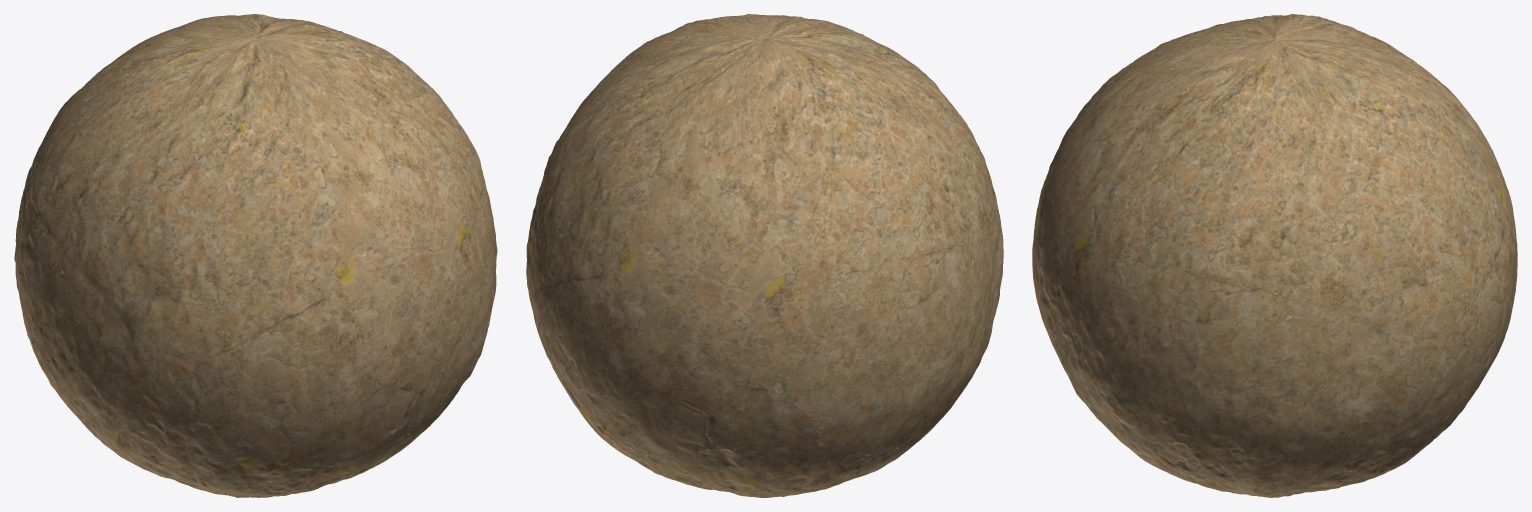
The model's file is worn_rock_natural_01_1k.gltf.
3 renders of one model, left to right at view 1: azimuth 30°, elevation 25°; view 2: azimuth 150°, elevation 25°; view 3: azimuth 270°, elevation 25°, orthographic.
Visible parts, largest first — view 1: sphere_gltf; view 2: sphere_gltf; view 3: sphere_gltf.
Part boxes in pixels (<box>): sphere_gltf: <box>14,14,497,497</box>; sphere_gltf: <box>526,14,1003,497</box>; sphere_gltf: <box>1032,14,1517,497</box>.
Bounding box in the file's own units: 1.99 × 2.03 × 2.04.
Materials: 1 (1 with a texture image).
